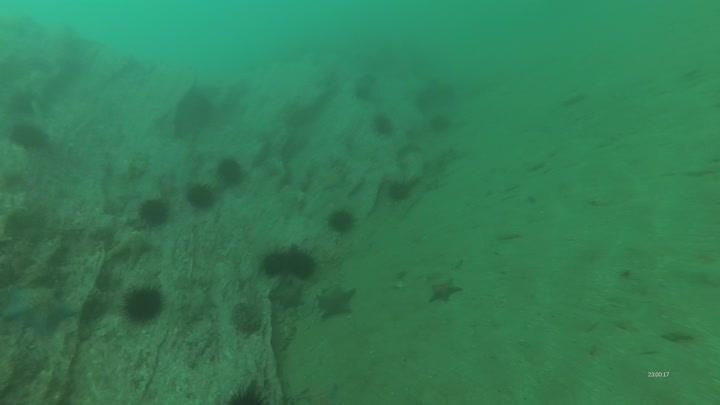echinus: (170, 88, 216, 138), (121, 283, 166, 325), (222, 380, 277, 404), (8, 120, 49, 152), (137, 196, 172, 229), (259, 247, 292, 279), (214, 155, 246, 187), (185, 181, 218, 212), (325, 206, 358, 236), (288, 247, 317, 279), (351, 73, 378, 103), (385, 178, 414, 204), (370, 111, 396, 138), (427, 112, 453, 135)
starfish: (1, 281, 75, 337), (108, 226, 155, 265), (314, 283, 358, 322), (269, 279, 307, 311), (315, 159, 350, 192), (426, 277, 464, 305)
